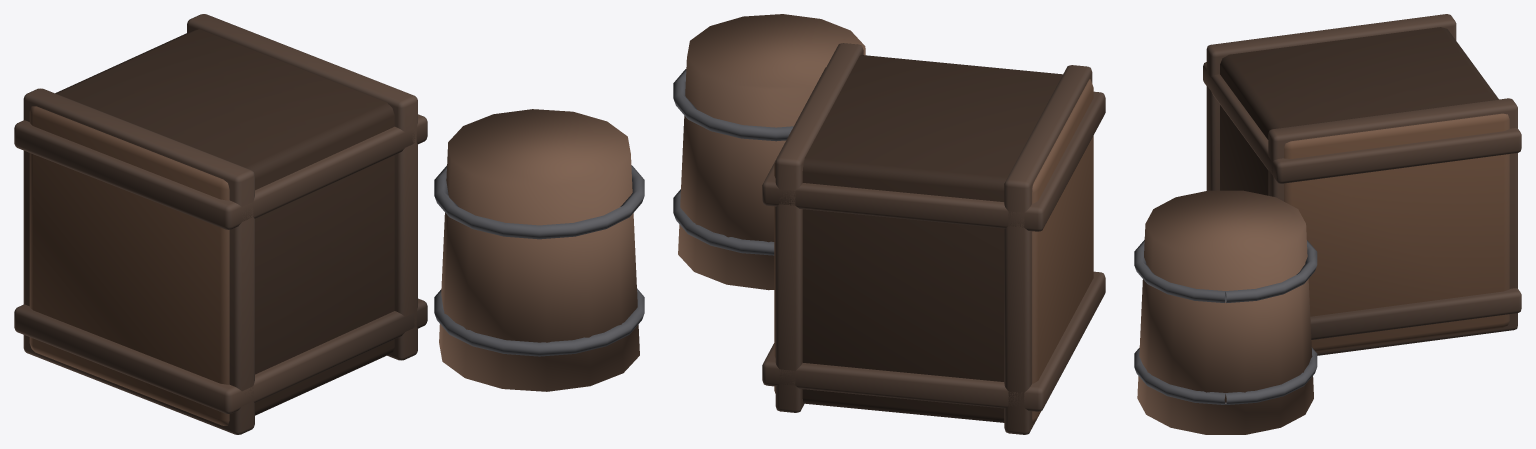
Rendered from kit_d_crate.glb.
3 renders of one model, left to right at view 1: azimuth 30°, elevation 25°; view 2: azimuth 150°, elevation 25°; view 3: azimuth 270°, elevation 25°, orthographic. The views are drawn at different scales.
Visible parts, largest first — view 1: kit_d_crate; view 2: kit_d_crate; view 3: kit_d_crate.
Boxes of the visible parts, x1=… form: kit_d_crate: x1=14, y1=14, x2=644, y2=434; kit_d_crate: x1=673, y1=14, x2=1105, y2=434; kit_d_crate: x1=1134, y1=14, x2=1521, y2=434.
Size of the model in its own units: 0.6139 by 0.31 by 0.4822.
